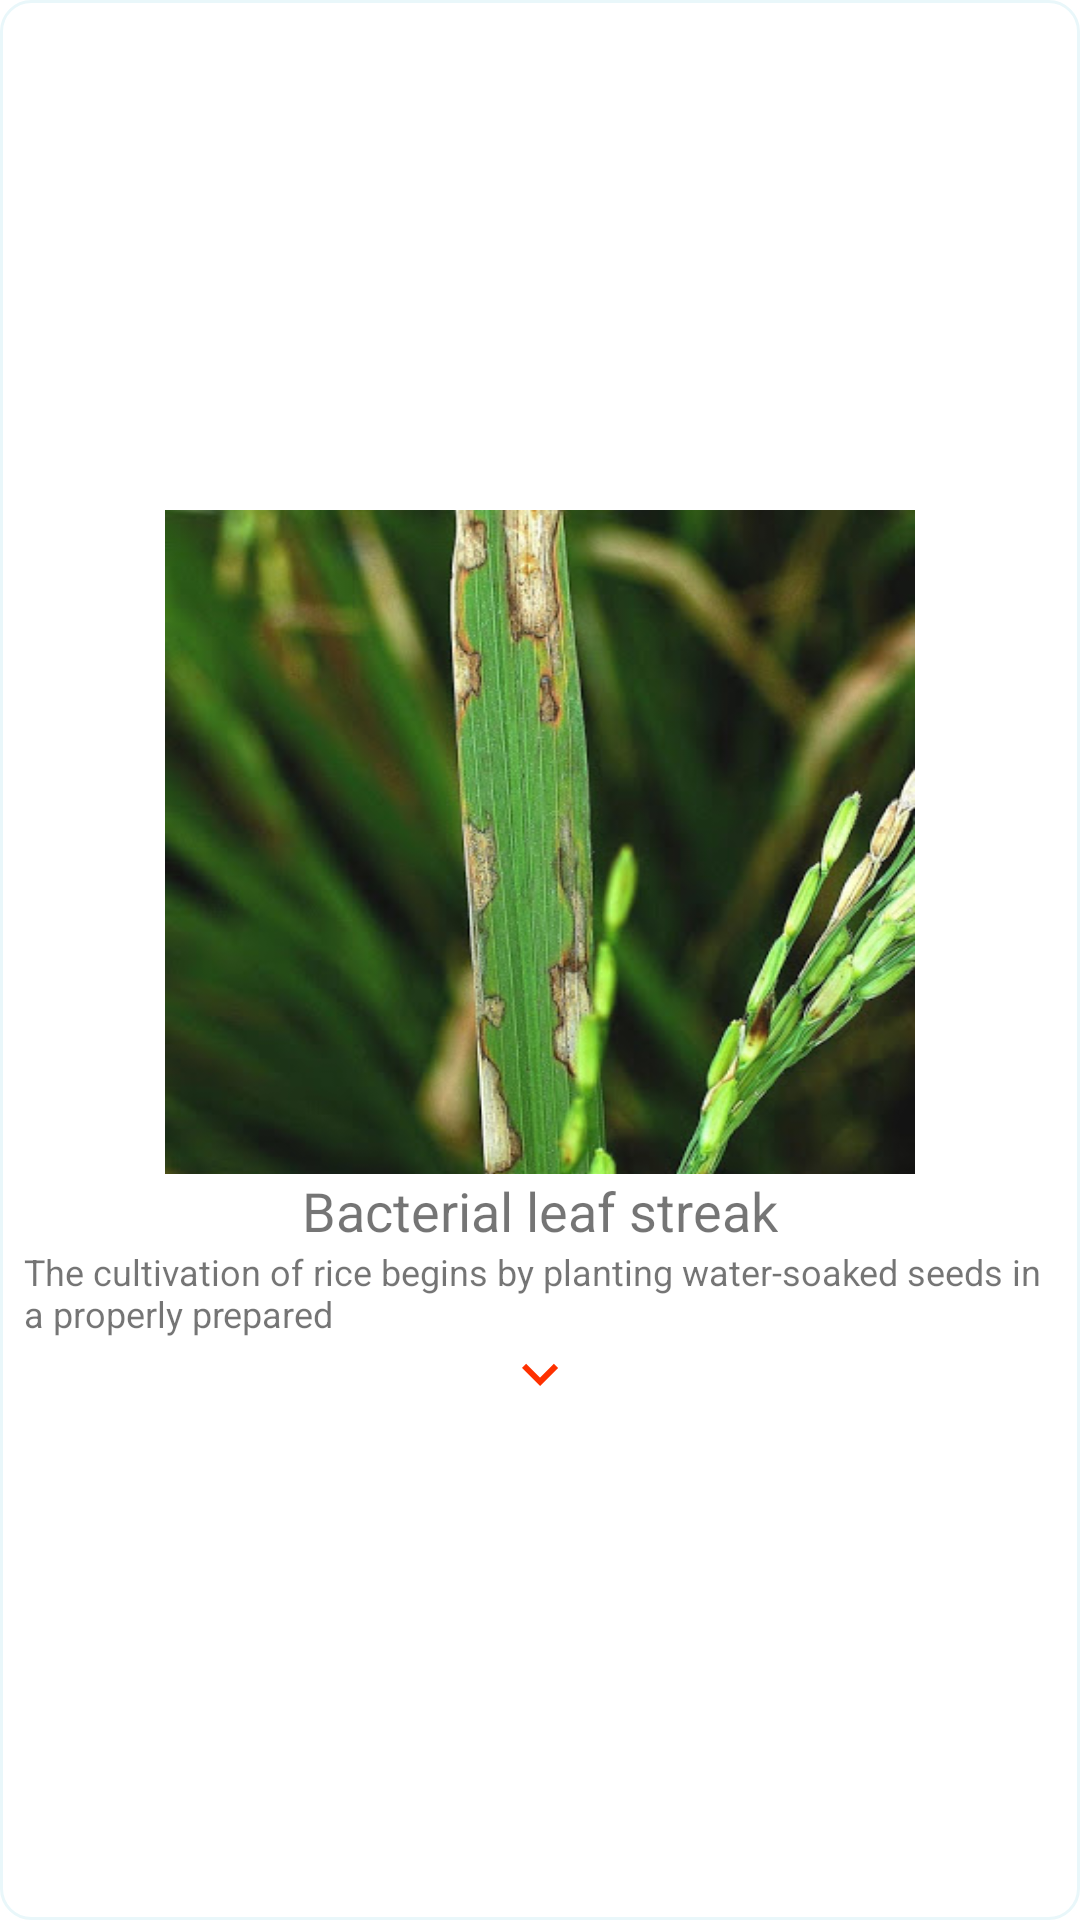

Where to tap for icons on this 1080px×1920px app screen, as point (x, y):
keyboard arrow down: point (540, 1375)
